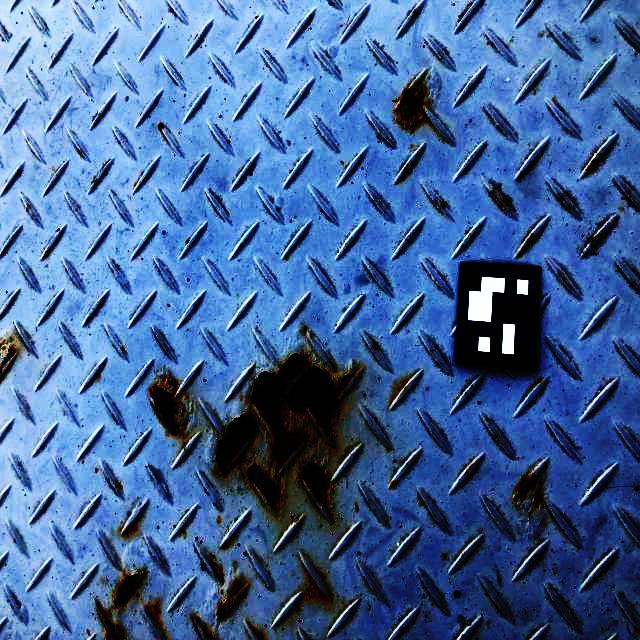Corrosion: (249, 350, 356, 468), (214, 412, 261, 476), (153, 378, 186, 435), (247, 461, 282, 510), (396, 83, 430, 131), (299, 461, 328, 510), (111, 572, 144, 610), (514, 470, 545, 506), (217, 581, 244, 619), (148, 602, 165, 637), (307, 575, 329, 599), (103, 616, 124, 640), (0, 347, 14, 376), (209, 557, 224, 583), (202, 625, 217, 640), (403, 161, 414, 176), (158, 123, 163, 129)
